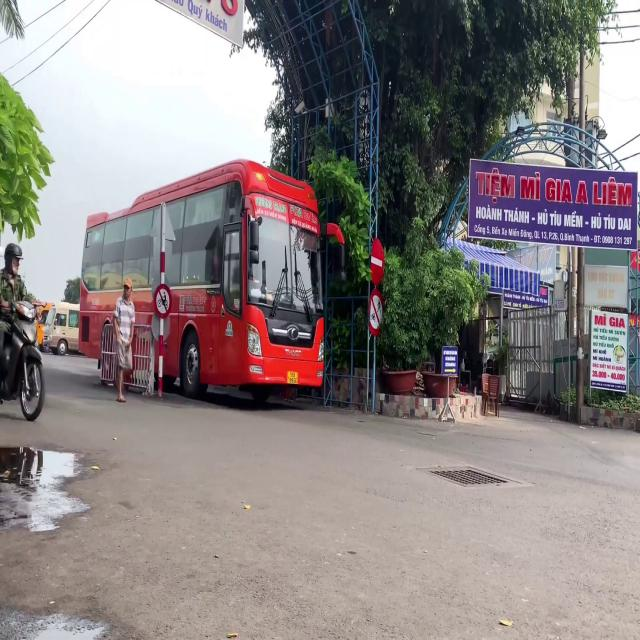bien_vang: (287, 372, 299, 386)
